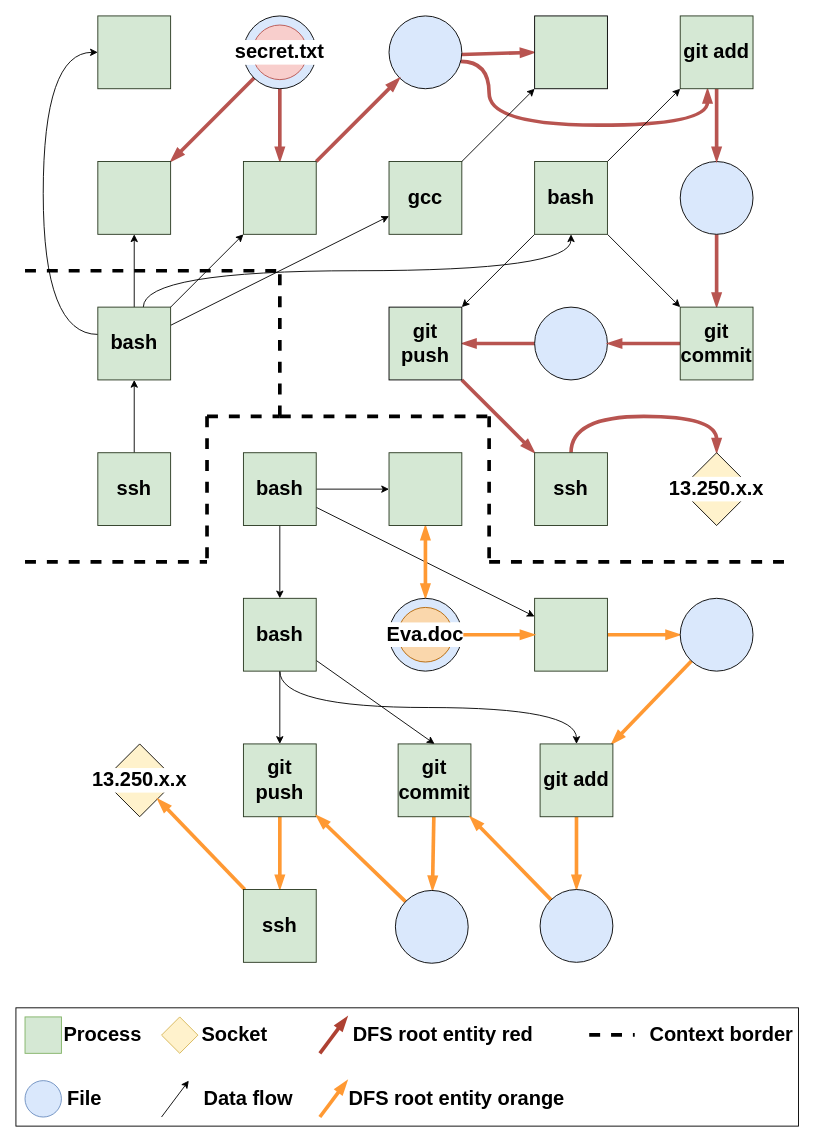
Image size: 819x1142. Some labels were removed from this diagram. The shapes that lost their labels are listed below. From the top down, each one's centre as x and y in pixels, then its label:
At pixel 134 52: "ls".
At pixel 425 52: "Pro2.c".
At pixel 570 52: "cc1".
At pixel 134 197: "cat".
At pixel 279 197: "cp".
At pixel 425 489: "vim".
At pixel 570 634: "tar".
At pixel 716 634: "Eva.tar".
